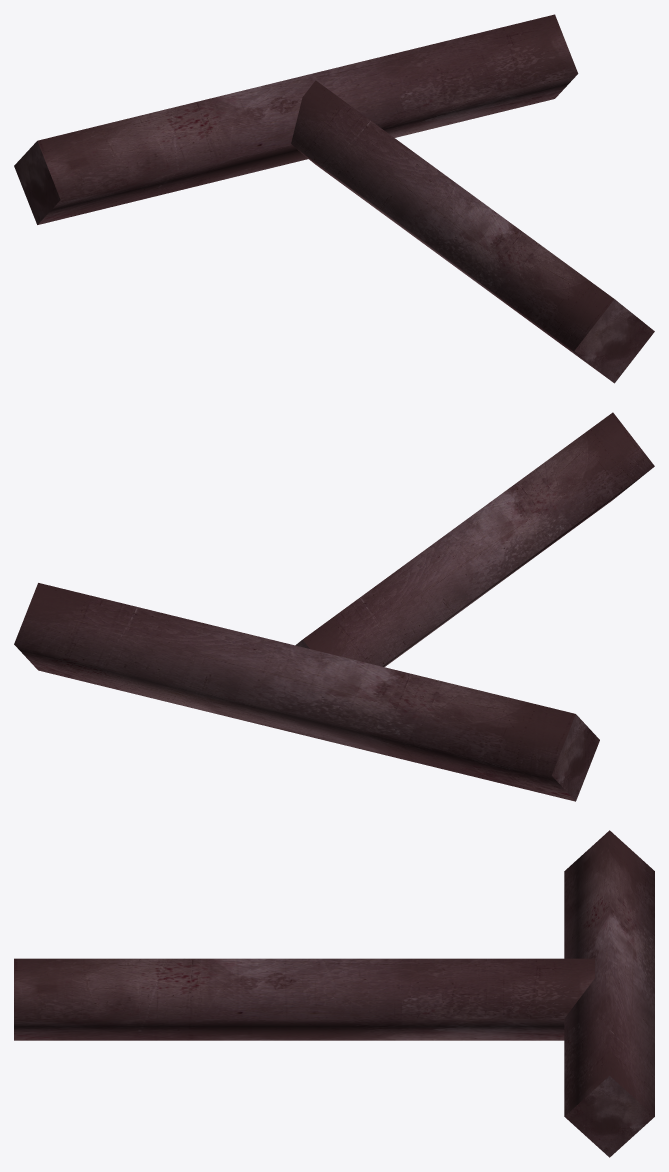
File: ST_TubeT.FBX
3 views of the same model, one above another, from view 1: azimuth 30°, elevation 25°; view 2: azimuth 150°, elevation 25°; view 3: azimuth 270°, elevation 25° (orthographic). The views are drawn at different scales.
Visible parts, largest first — view 1: Cylinder003; view 2: Cylinder003; view 3: Cylinder003.
Boxes of the visible parts, bbox=[...] form: Cylinder003: bbox=[14, 14, 654, 383]; Cylinder003: bbox=[14, 412, 654, 801]; Cylinder003: bbox=[14, 830, 654, 1157].
Bounding box in the file's own units: 290 × 45.17 × 320.
